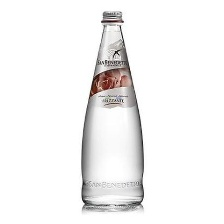bottle: (76, 5, 148, 210)
